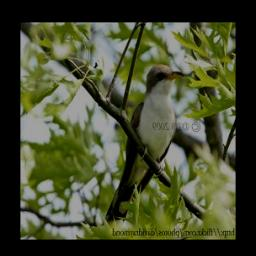Cuckoo: (106, 62, 185, 226)
